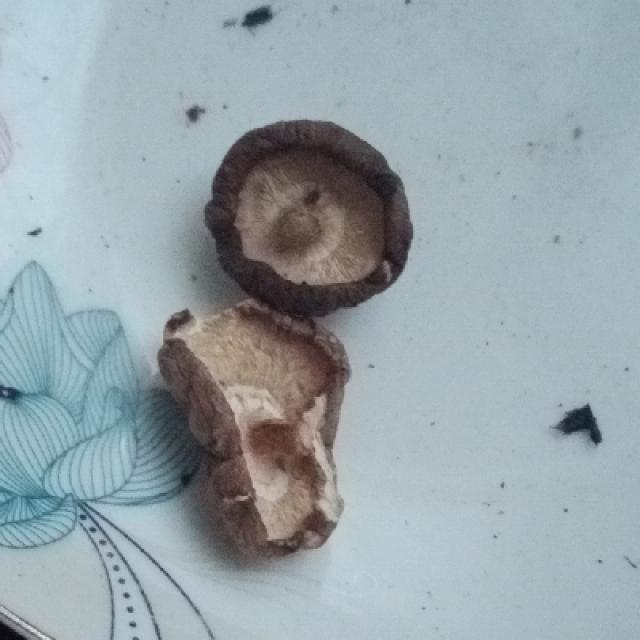Lentinus edodes: (159, 303, 352, 553), (205, 120, 415, 309)
